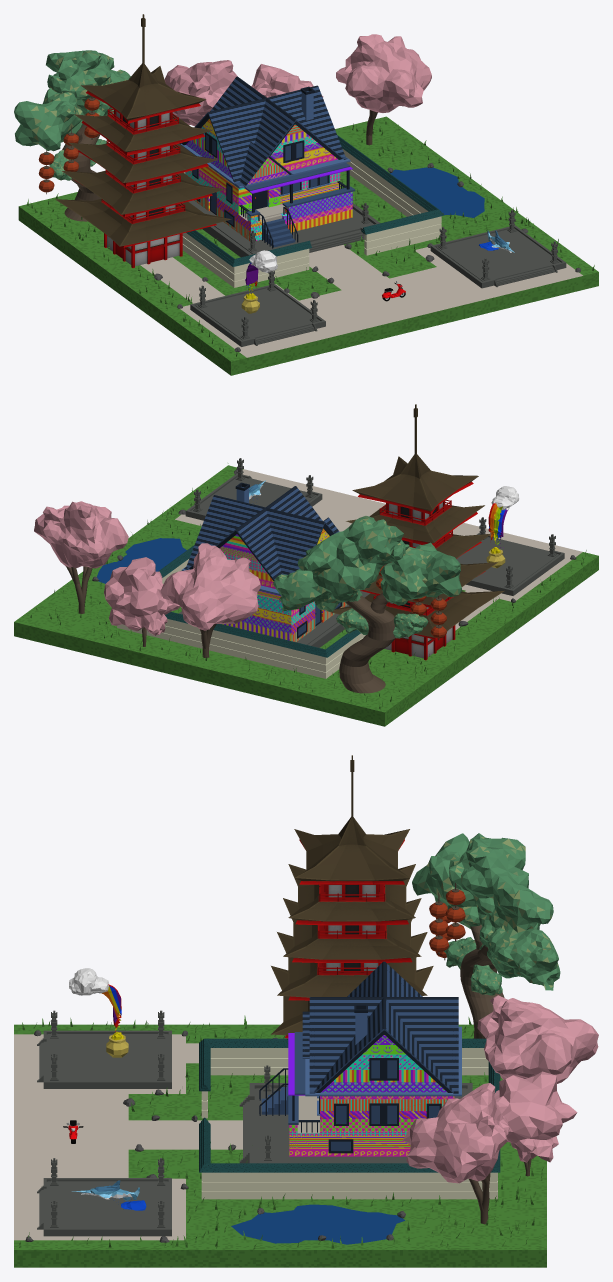
The picture shows the model from 3 angles, top to bottom: view 1: azimuth 30°, elevation 25°; view 2: azimuth 150°, elevation 25°; view 3: azimuth 270°, elevation 25°; orthographic projection. The views are drawn at different scales.
Visible parts, largest first — view 1: Cube.005, Cube.676, OBJRANDOM_RAINBOW; view 2: Cube.005, Cube.676, OBJRANDOM_RAINBOW; view 3: Cube.005, Cube.676, OBJRANDOM_RAINBOW, ANIMAL_PEZ_ESPADA.
Boxes of the visible parts, x1=… form: Cube.005: x1=14, y1=14, x2=598, y2=375; Cube.676: x1=179, y1=76, x2=355, y2=248; OBJRANDOM_RAINBOW: x1=241, y1=250, x2=277, y2=313; Cube.005: x1=14, y1=404, x2=598, y2=726; Cube.676: x1=181, y1=482, x2=347, y2=641; OBJRANDOM_RAINBOW: x1=486, y1=486, x2=519, y2=568; Cube.005: x1=14, y1=755, x2=598, y2=1267; Cube.676: x1=259, y1=961, x2=461, y2=1156; OBJRANDOM_RAINBOW: x1=69, y1=968, x2=128, y2=1057; ANIMAL_PEZ_ESPADA: x1=71, y1=1180, x2=146, y2=1210.
Bounding box in the file's own units: 4528 × 2690 × 4389.
Materials: 52 (9 with a texture image).
